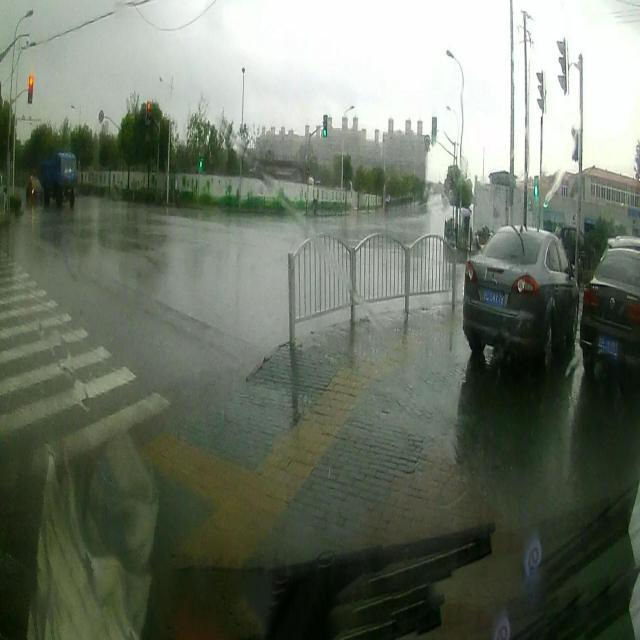car: (461, 222, 577, 373), (578, 244, 640, 390), (26, 176, 42, 206)
